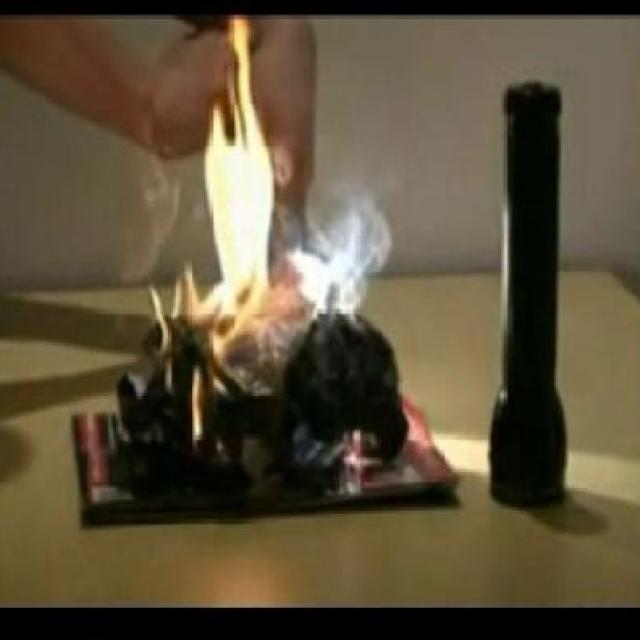fire: (285, 182, 400, 324)
smoke: (149, 12, 278, 439)
